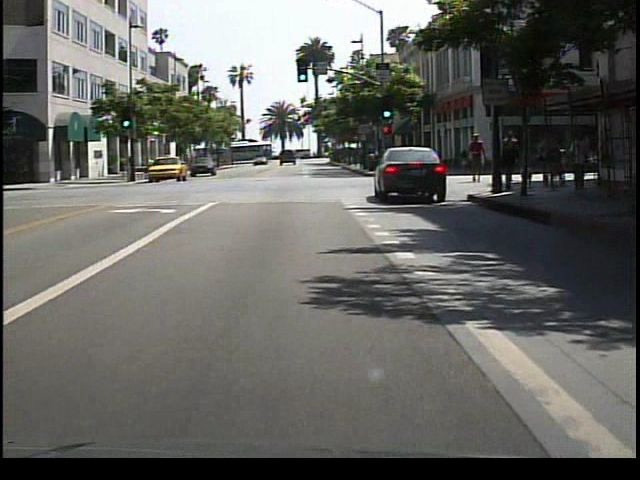person: (467, 131, 492, 189)
